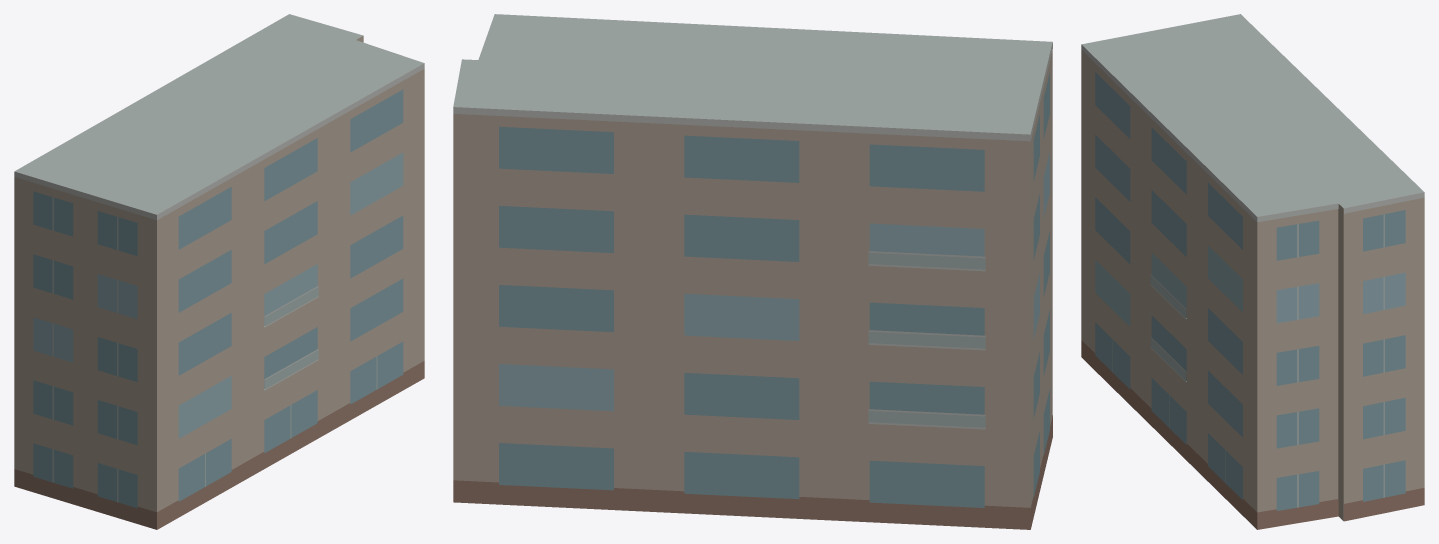
The model's file is survey-upis-32852069.glb.
3 renders of one model, left to right at view 1: azimuth 30°, elevation 25°; view 2: azimuth 150°, elevation 25°; view 3: azimuth 270°, elevation 25°, orthographic. The views are drawn at different scales.
Parts seen in each view (by area): view 1: survey-upis-32852069.tmp; view 2: survey-upis-32852069.tmp; view 3: survey-upis-32852069.tmp.
Part boxes in pixels (bbox=[...]): survey-upis-32852069.tmp: bbox=[14, 14, 424, 529]; survey-upis-32852069.tmp: bbox=[453, 14, 1052, 529]; survey-upis-32852069.tmp: bbox=[1081, 14, 1424, 529].
Bounding box in the file's own units: 19.9 × 14.3 × 14.22.
